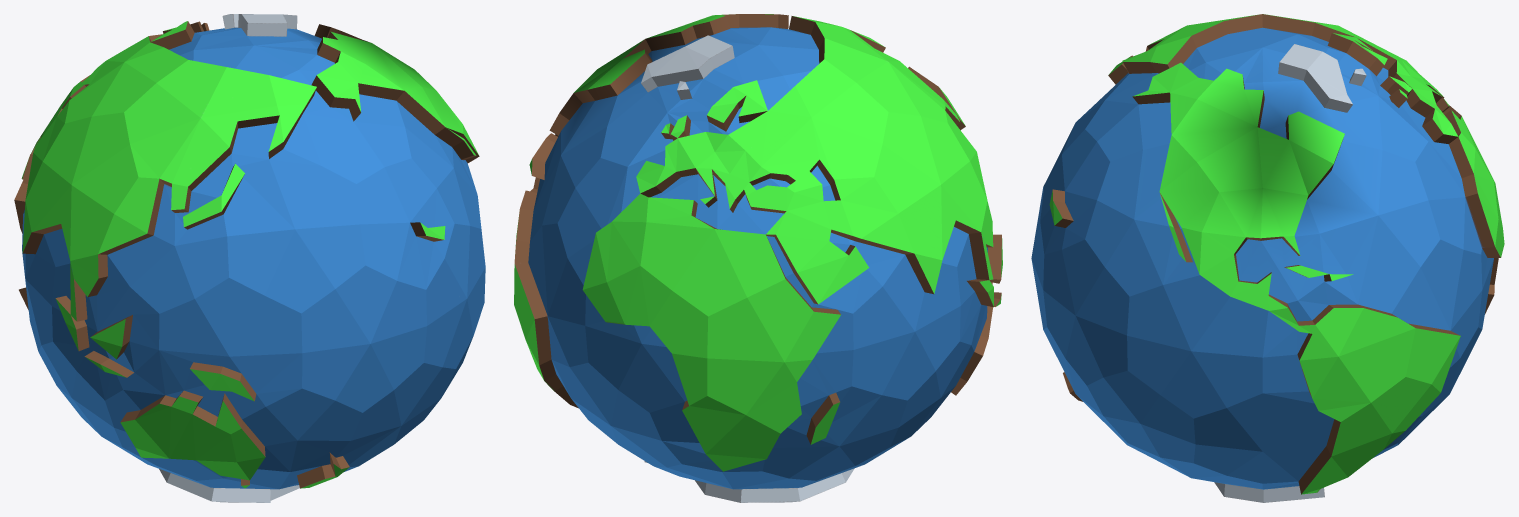
The model's file is globe.glb.
3 views of the same model, side by side, from view 1: azimuth 30°, elevation 25°; view 2: azimuth 150°, elevation 25°; view 3: azimuth 270°, elevation 25° (orthographic).
Parts seen in each view (by area): view 1: Globe; view 2: Globe; view 3: Globe.
Boxes of the visible parts, x1,y1,x2,y2 form: Globe: (14,14,485,502); Globe: (514,14,1002,502); Globe: (1031,14,1504,502).
Bounding box in the file's own units: 10.5 × 10.71 × 10.38.
1 material, 1 textured.
